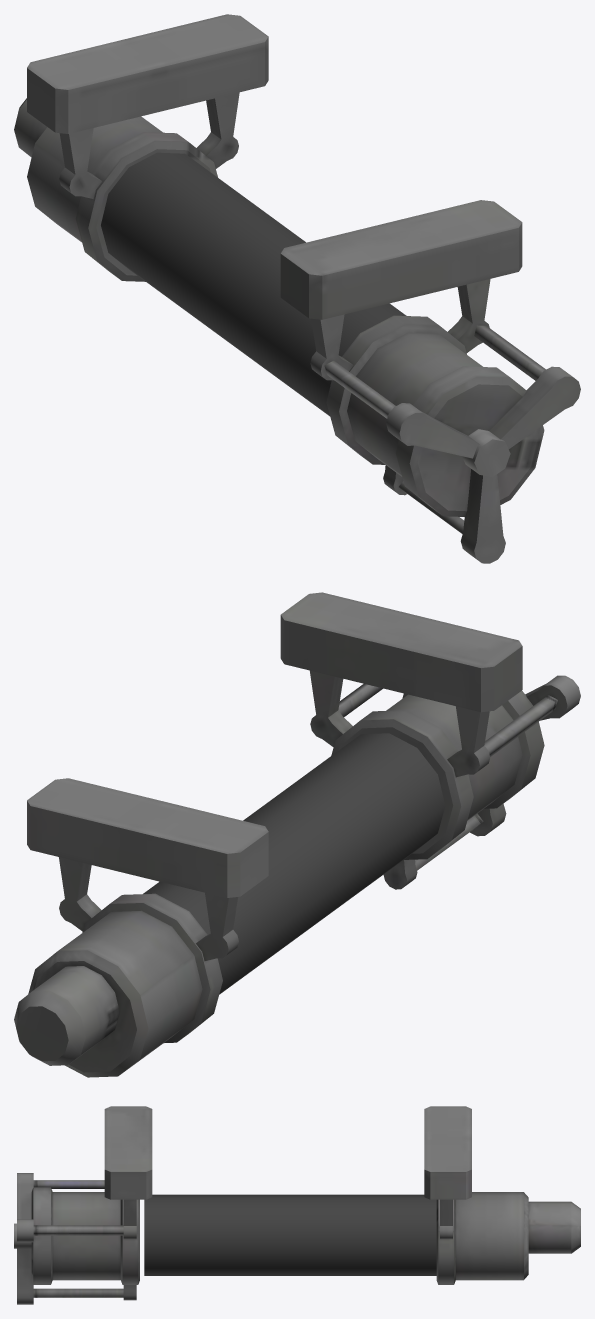
3 views of the same model, one above another, from view 1: azimuth 30°, elevation 25°; view 2: azimuth 150°, elevation 25°; view 3: azimuth 270°, elevation 25° (orthographic). The views are drawn at different scales.
Visible parts, largest first — view 1: body0_model0_lod0_mesh0, body0_model0_lod0_mesh1; view 2: body0_model0_lod0_mesh0, body0_model0_lod0_mesh1; view 3: body0_model0_lod0_mesh0, body0_model0_lod0_mesh1.
Boxes of the visible parts, x1,y1,x2,y2 form: body0_model0_lod0_mesh0: (14, 14, 580, 563); body0_model0_lod0_mesh1: (101, 152, 406, 416); body0_model0_lod0_mesh0: (14, 592, 580, 1077); body0_model0_lod0_mesh1: (143, 733, 445, 994); body0_model0_lod0_mesh0: (14, 1106, 580, 1304); body0_model0_lod0_mesh1: (144, 1194, 436, 1275).
Bounding box in the file's own units: 25.15 × 29.37 × 91.85.
2 materials, 1 textured.
